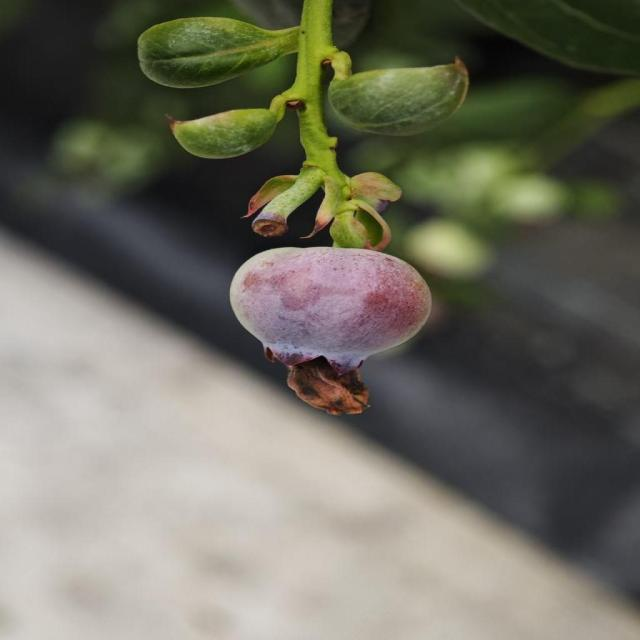Semi-RipeBlueBerry: (224, 246, 439, 360)
